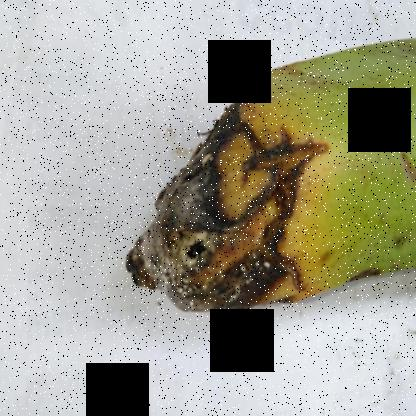rotten: (113, 45, 350, 341)
